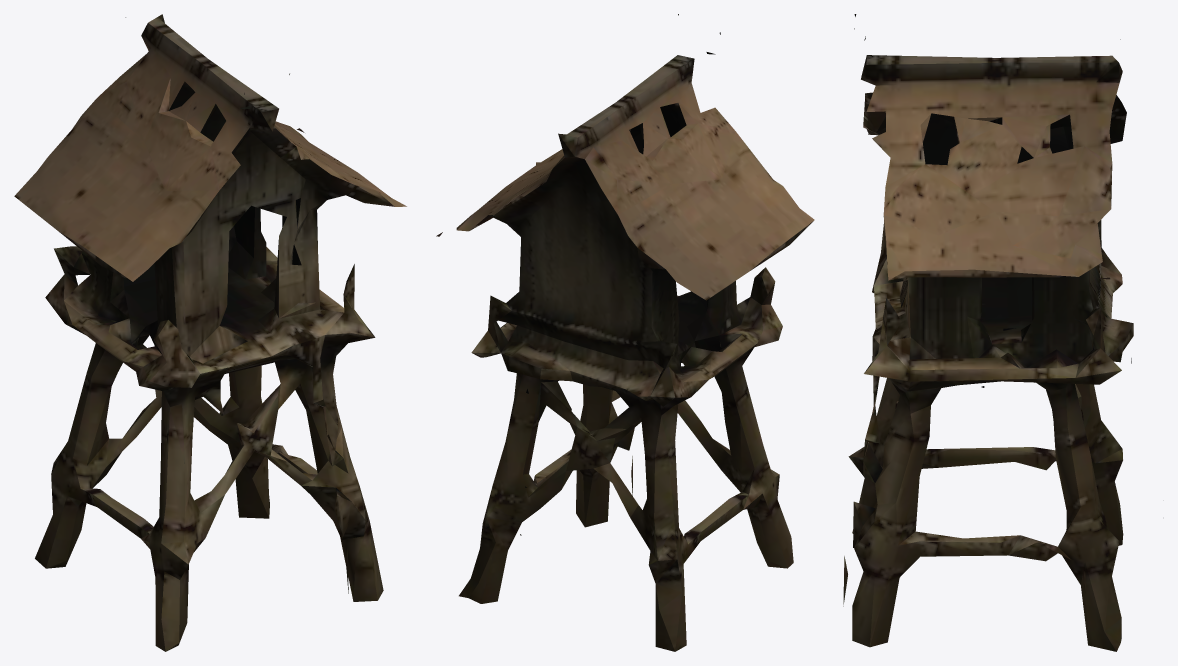
Rendered from goblin_tower_lod.glb.
3 renders of one model, left to right at view 1: azimuth 30°, elevation 25°; view 2: azimuth 150°, elevation 25°; view 3: azimuth 270°, elevation 25°, orthographic. The views are drawn at different scales.
Visible parts, largest first — view 1: goblin_tower; view 2: goblin_tower; view 3: goblin_tower.
Boxes of the visible parts, left/top/right/bottom form: goblin_tower: left=14, top=14, right=406, bottom=651; goblin_tower: left=436, top=14, right=814, bottom=651; goblin_tower: left=843, top=14, right=1133, bottom=651.
Bounding box in the file's own units: 3.39 × 6.22 × 3.13.
Materials: 1 (1 with a texture image).
